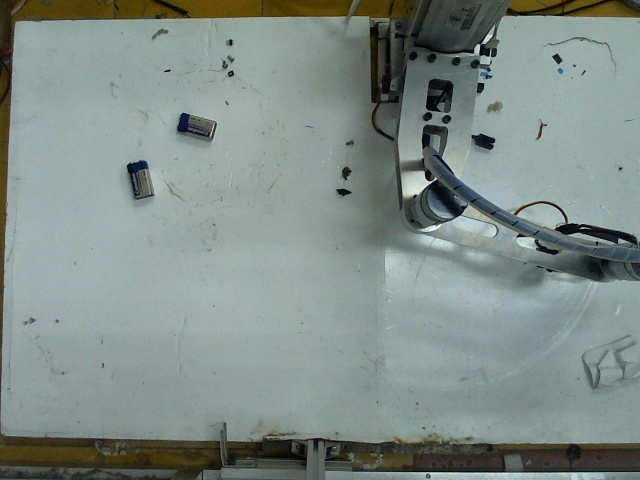battery: (124, 157, 158, 202), (176, 109, 215, 137)
